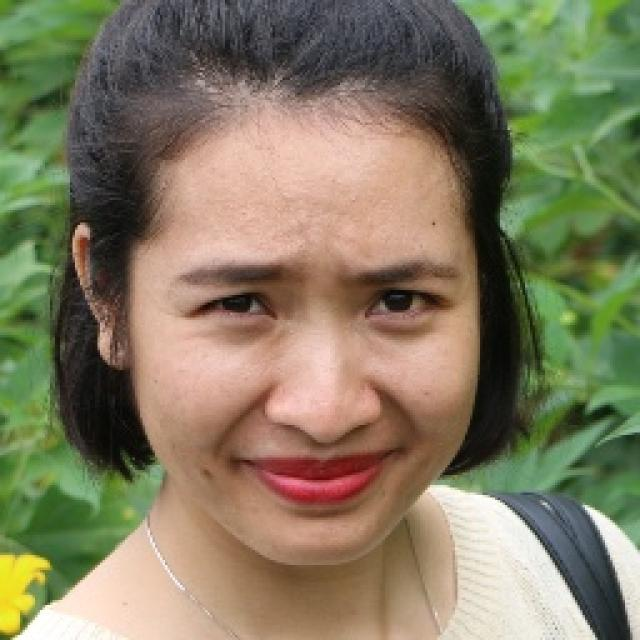earlobe: (95, 325, 132, 372)
eye: (196, 290, 273, 322), (366, 286, 438, 320)
nose: (262, 415, 386, 479)
wholeear: (71, 223, 133, 372)
